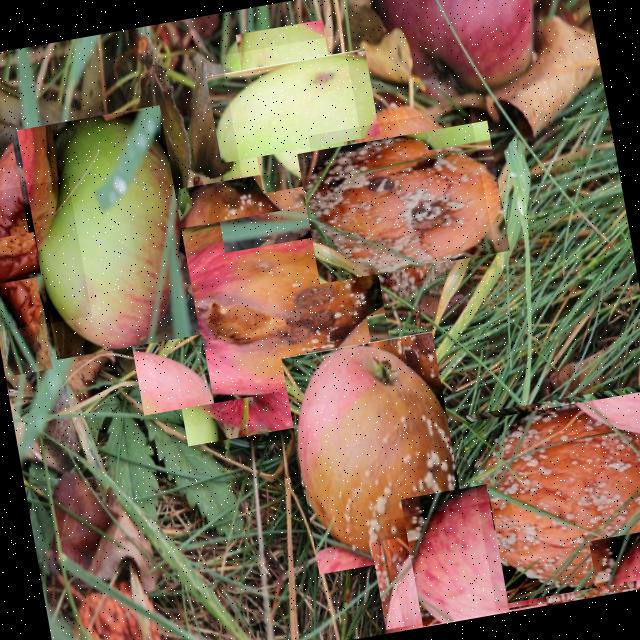Fresh Apple: (13, 105, 199, 361), (220, 34, 364, 179), (384, 498, 529, 630)
Rotten Apple: (127, 179, 380, 432), (280, 331, 470, 575), (462, 386, 639, 610), (308, 108, 498, 298), (0, 178, 92, 333)
